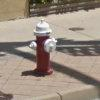Hydrant: (26, 15, 57, 87)
